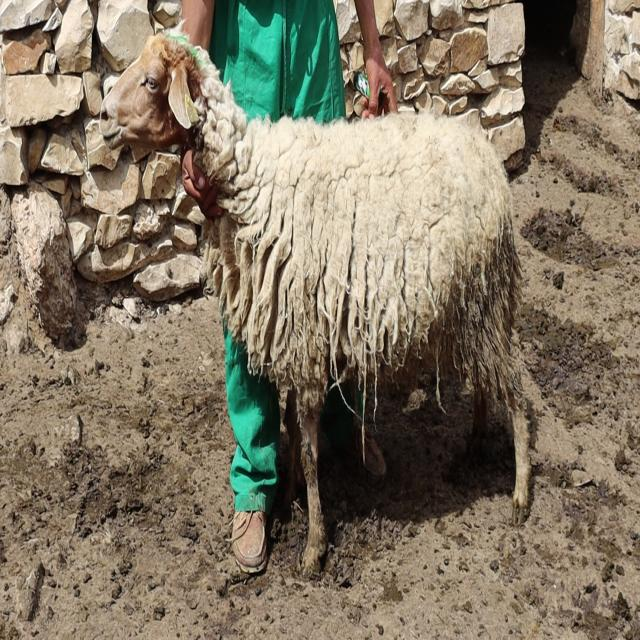Score_2: (101, 32, 531, 573)
